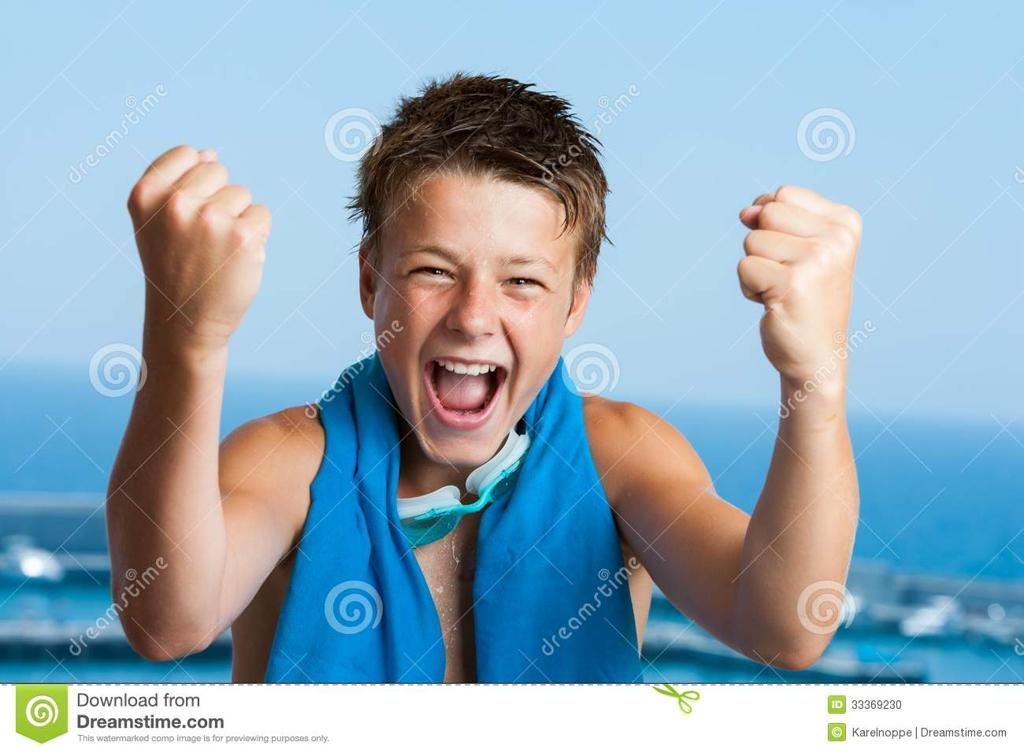face: (382, 194, 558, 470)
